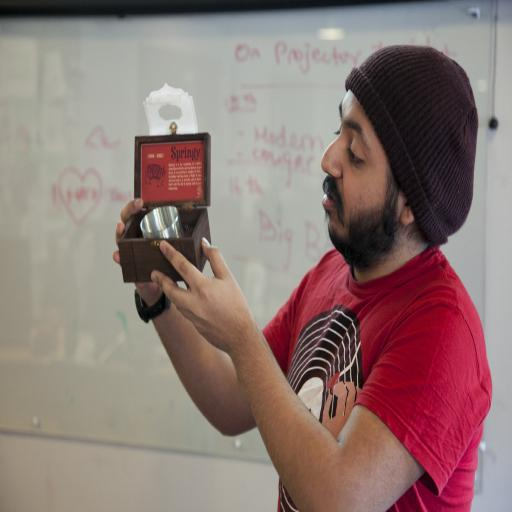Person: (105, 108, 506, 453)
no_gloves: (95, 208, 187, 277), (156, 243, 248, 312)
no_goggle: (315, 160, 380, 206)
no_helmet: (355, 112, 482, 230)
none: (262, 247, 480, 421)
